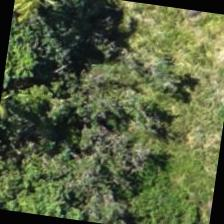Kelapa_Sawit: (10, 0, 75, 44)
